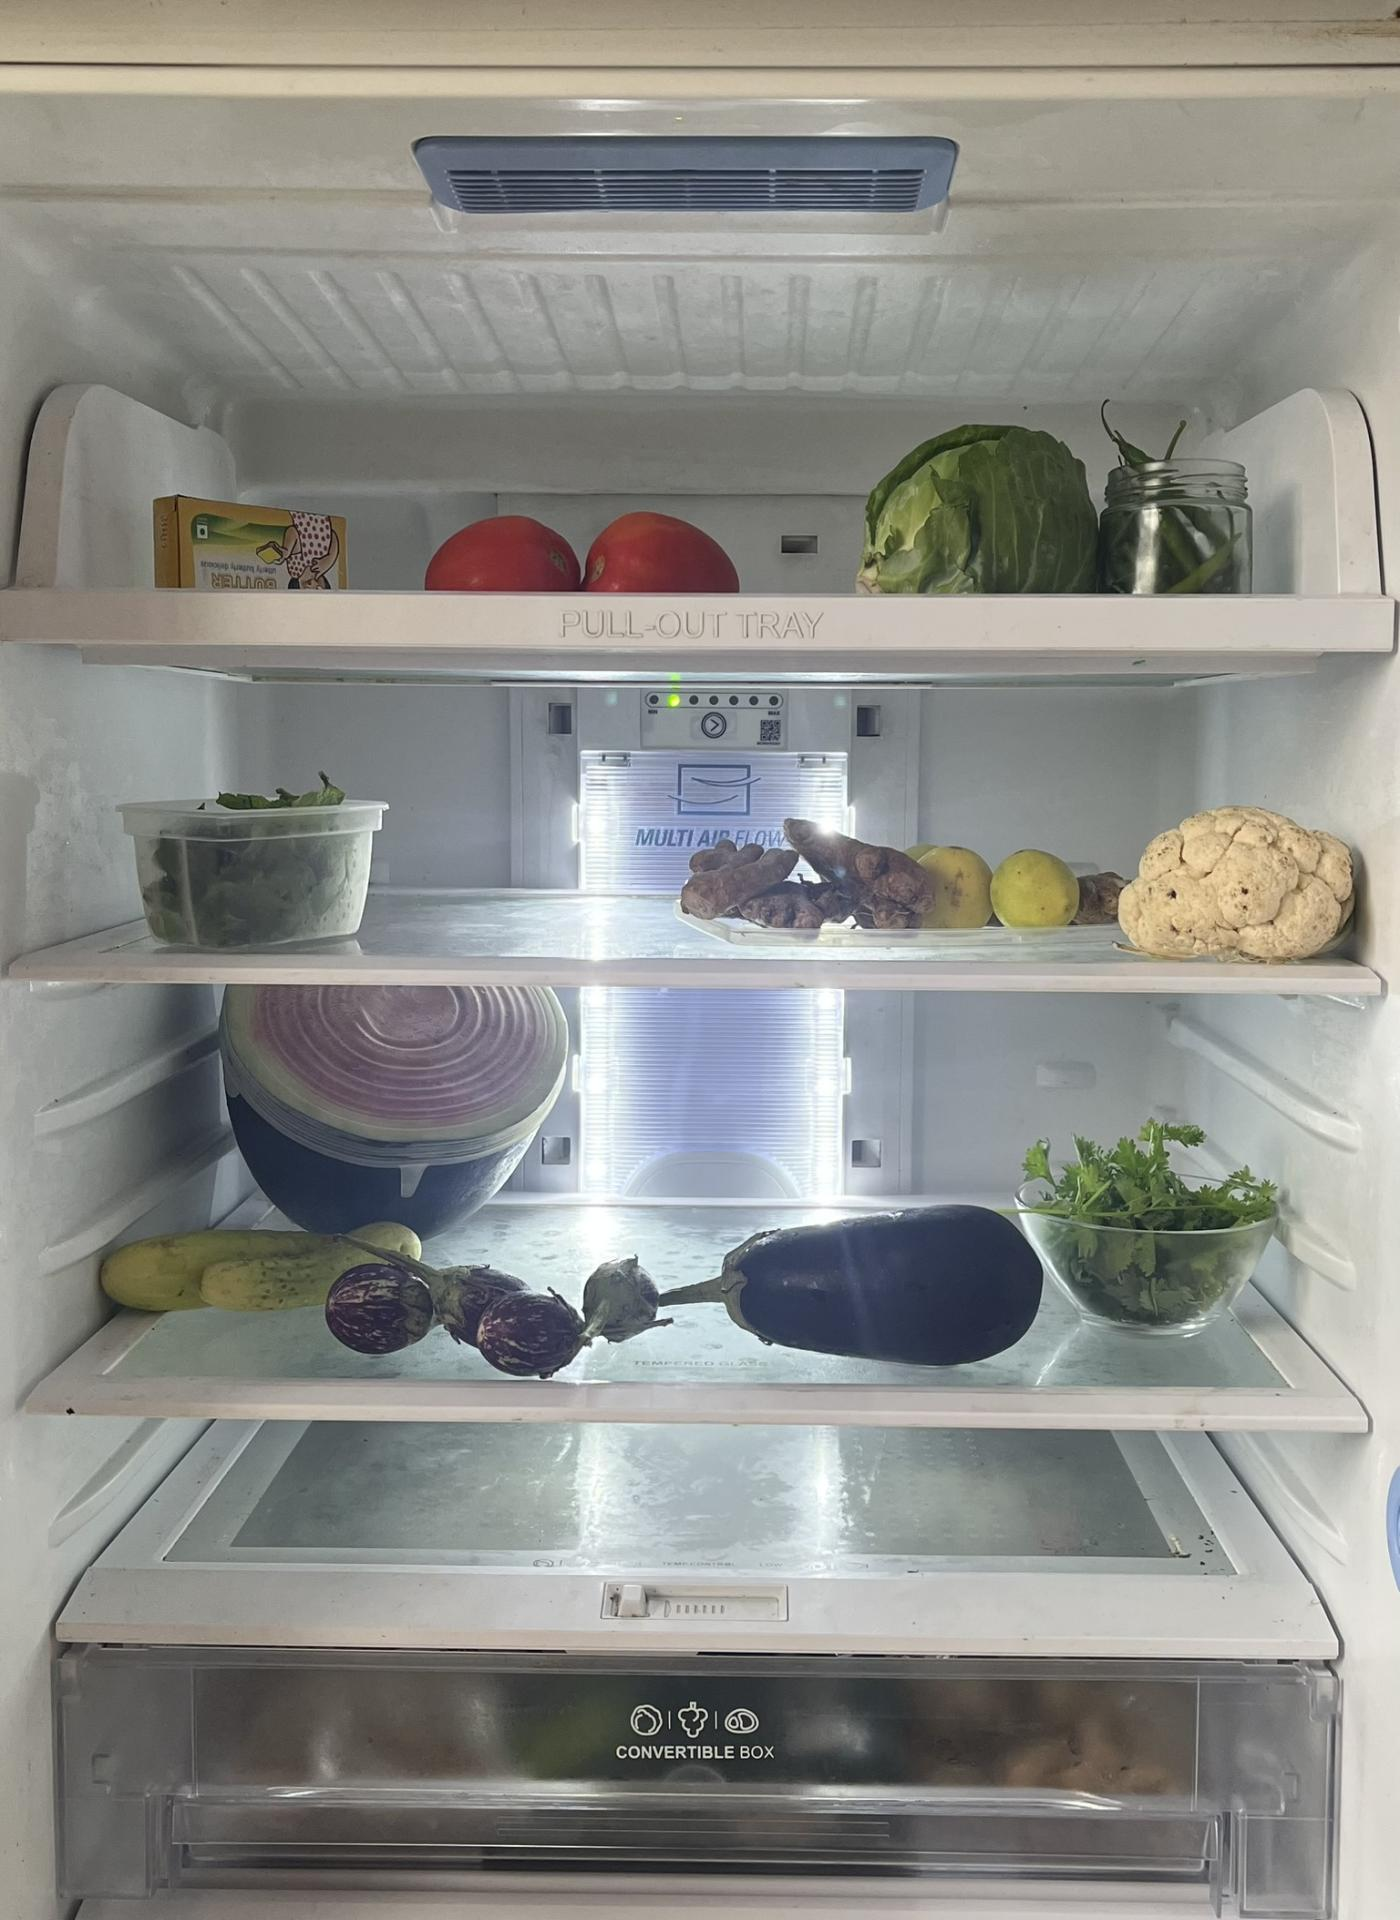basil: (142, 777, 385, 933)
brinjal: (613, 1201, 1054, 1367), (315, 1248, 635, 1379)
butter: (149, 477, 356, 589)
cabbage: (857, 423, 1103, 593)
cauliflower: (1109, 800, 1361, 960)
chillies: (1093, 411, 1255, 602)
coriander: (1018, 1124, 1272, 1333)
cucumber: (92, 1224, 394, 1310)
ginger: (678, 818, 927, 936)
lemon: (915, 839, 1087, 932)
tomato: (423, 513, 747, 601)
watermelon: (213, 985, 570, 1228)
